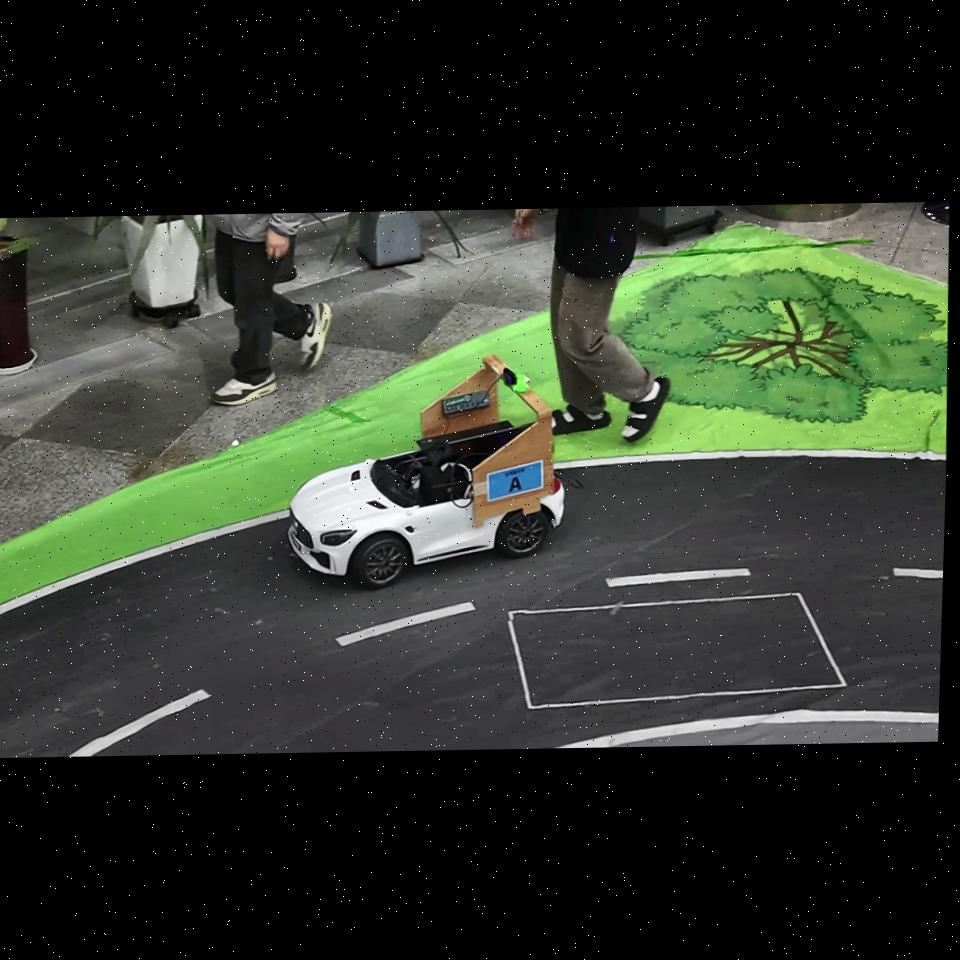broken_line: (69, 690, 210, 756), (336, 602, 475, 646), (606, 568, 750, 587), (893, 568, 943, 578)
